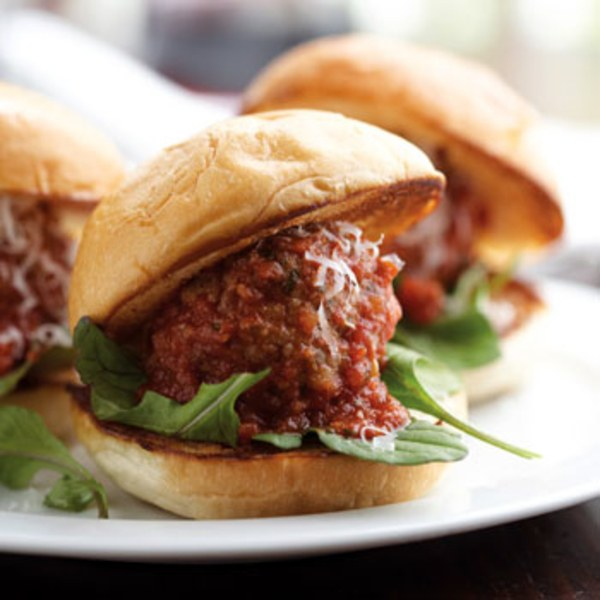meatballs: (174, 272, 403, 422)
slice of bread: (77, 420, 456, 510), (65, 155, 440, 234)
